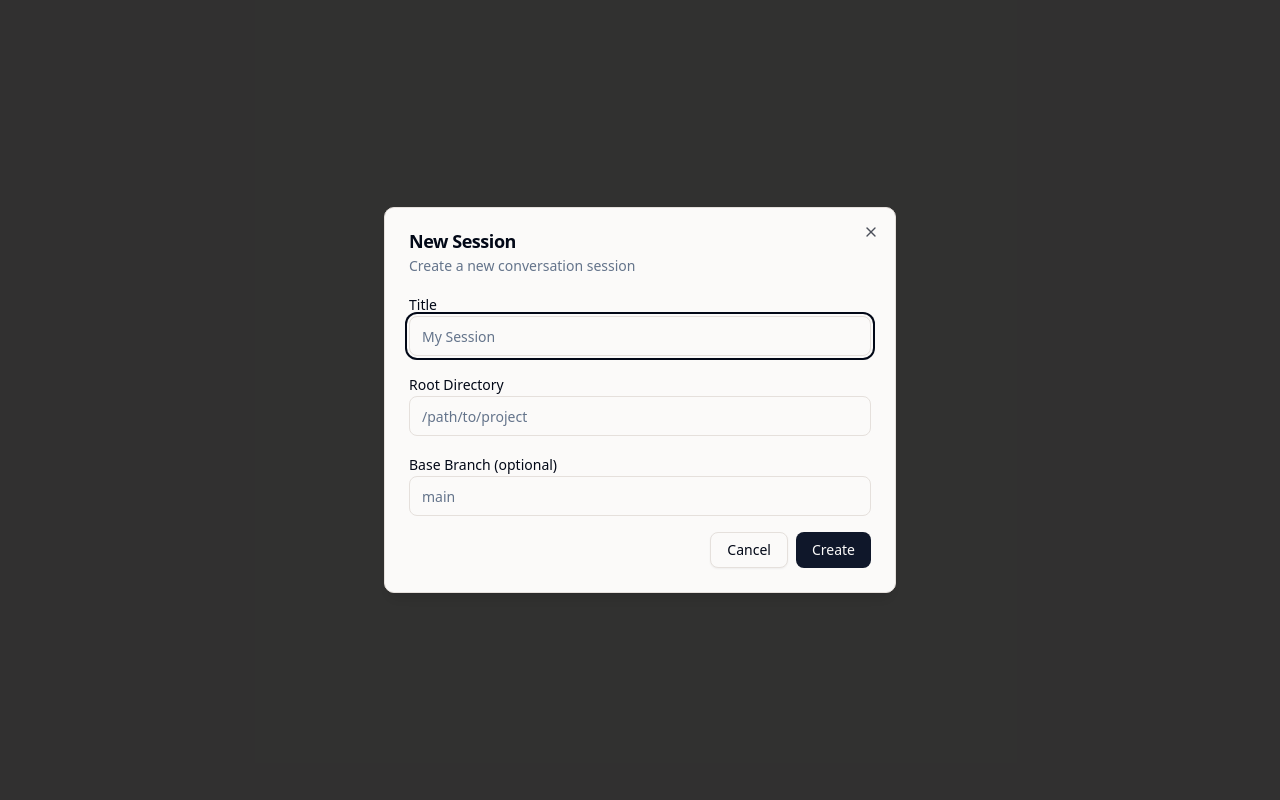
Scenario: NewSessionDialog › should show validation error when root directory is empty
The width and height of the screenshot is (1280, 800).
Type "Test Session" into the field labelled "Title" at (640, 336), box [409,316,871,356]
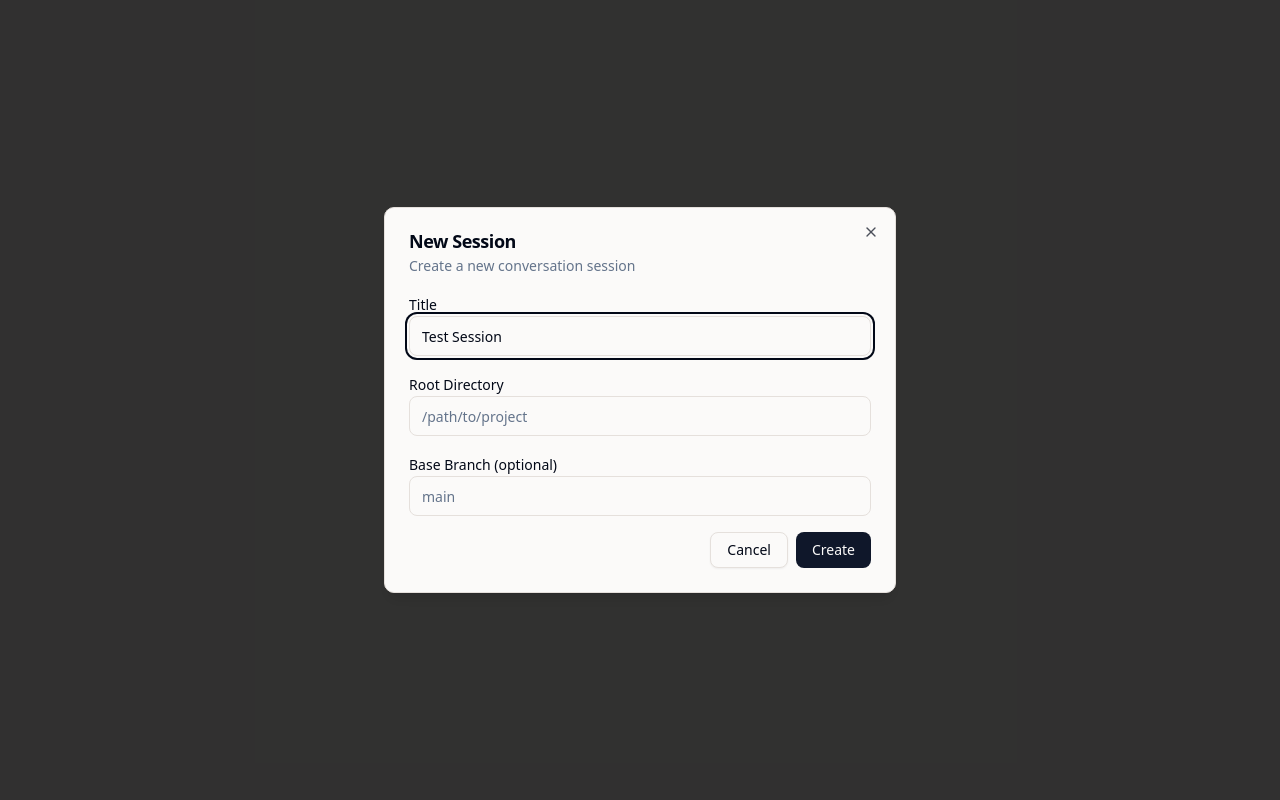
Click the button "Create" at (833, 550), box [796,532,871,568]
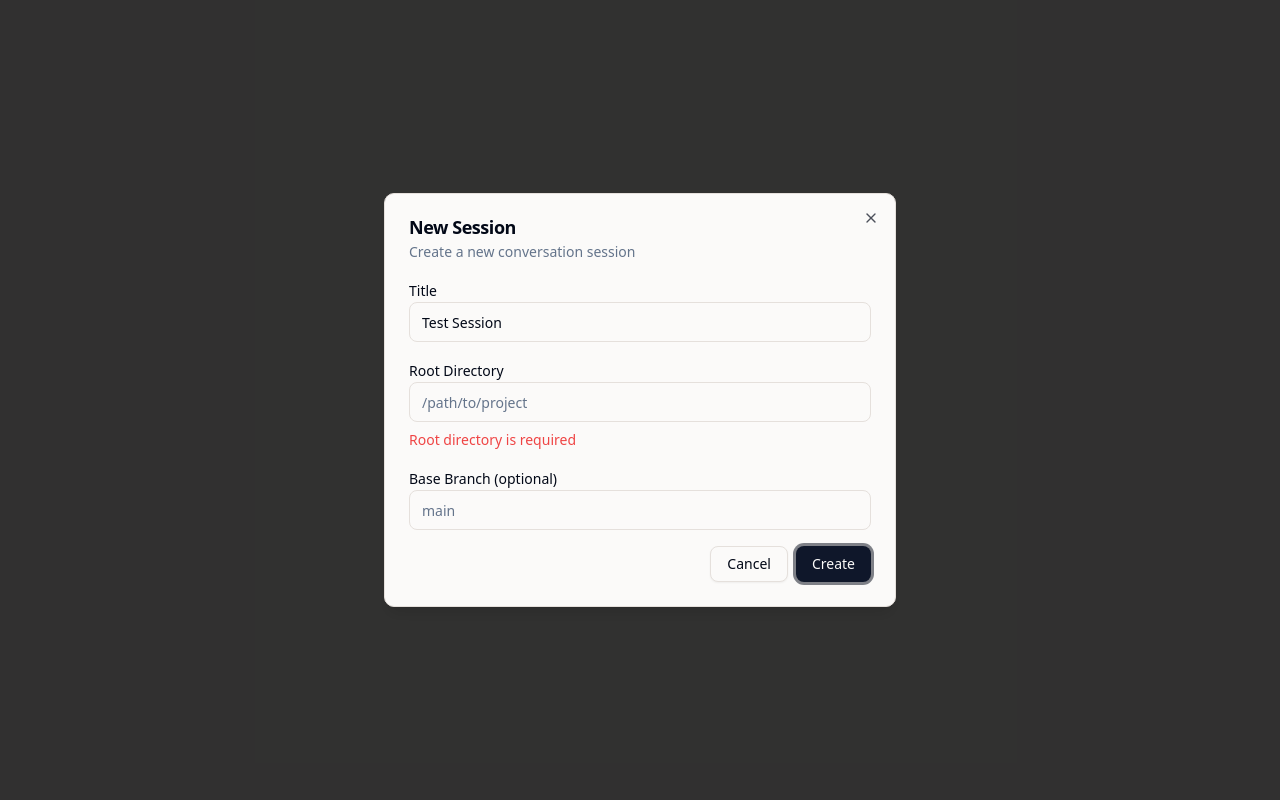
Expected: the text "Root directory is required" is shown, [409,430,576,449]
